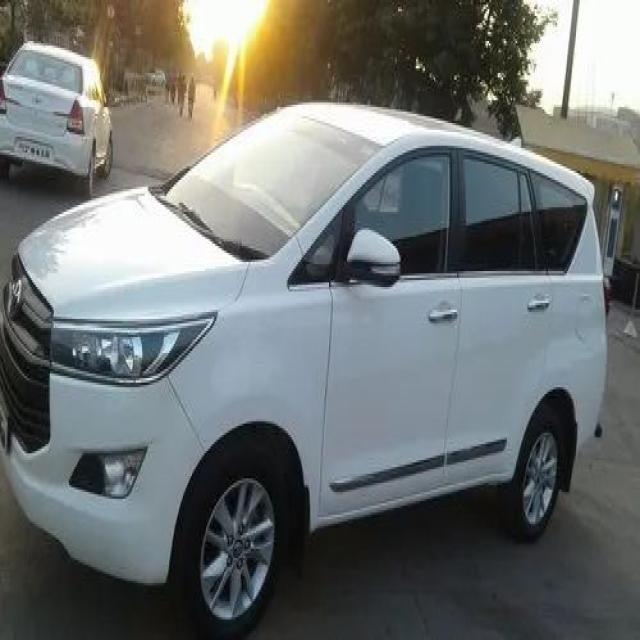light_vehicle: (0, 99, 609, 632)
